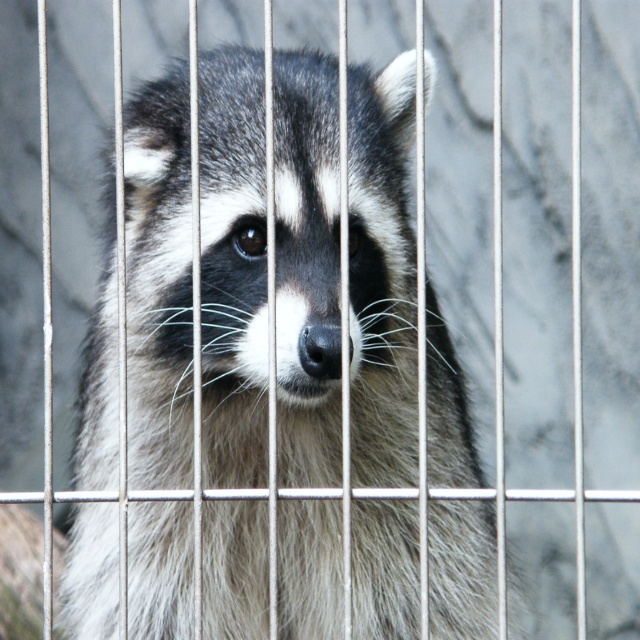Raccoon: (52, 35, 551, 640)
